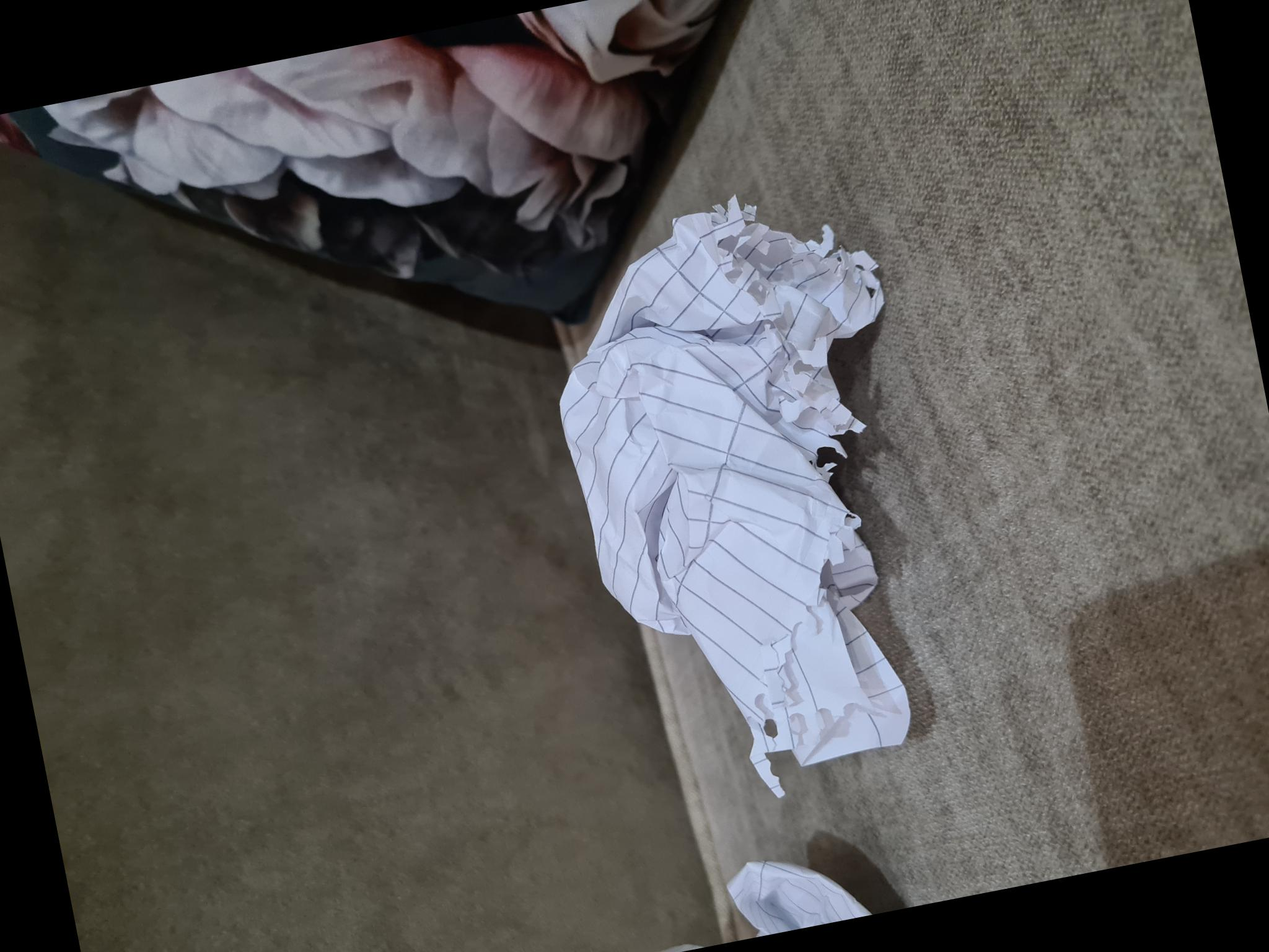Kertas: (189, 587, 787, 937), (48, 755, 124, 898)
